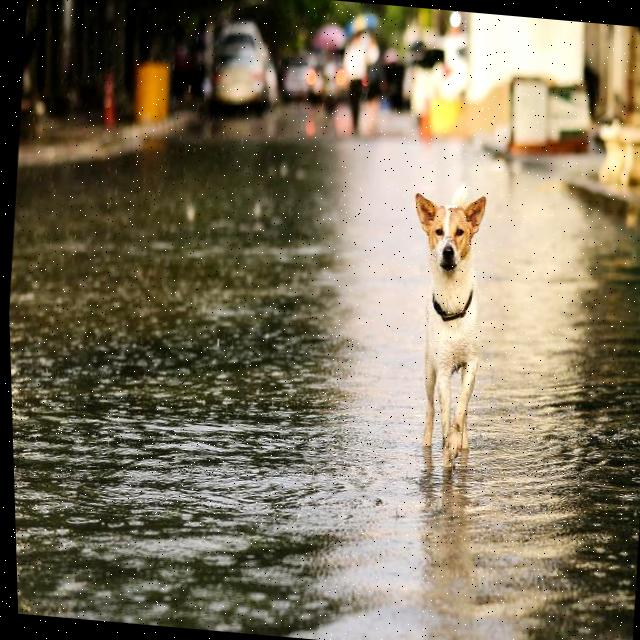civilian: (333, 19, 384, 144)
dog: (371, 181, 510, 467)
